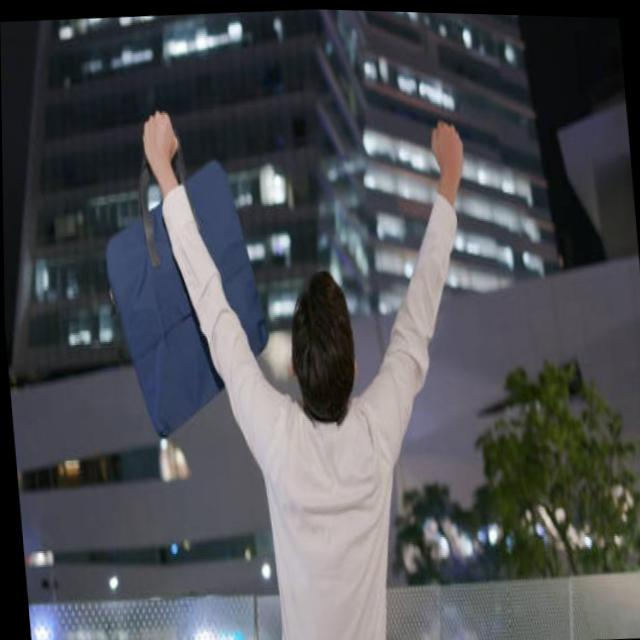no helmet: (279, 267, 363, 428)
